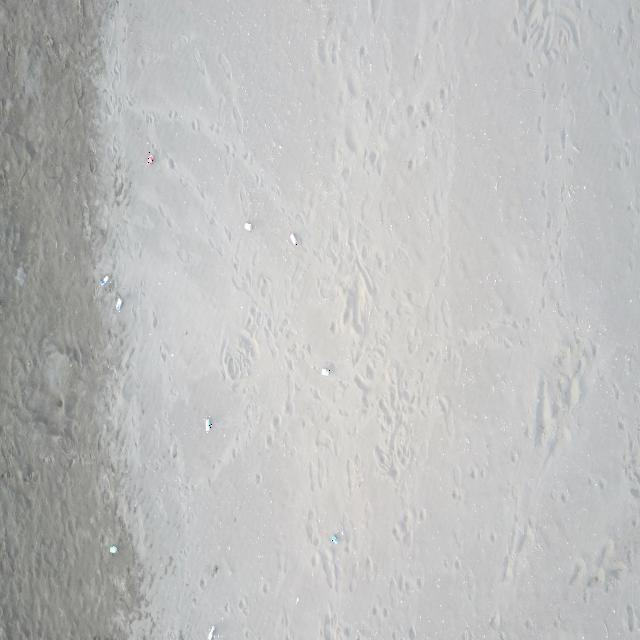tin-and-aluminum-cans: (100, 275, 111, 288), (204, 416, 212, 433), (115, 296, 123, 312), (242, 222, 254, 232), (207, 625, 215, 640), (147, 152, 155, 165), (332, 532, 339, 546), (289, 234, 297, 246), (109, 546, 118, 556), (321, 368, 330, 377)
